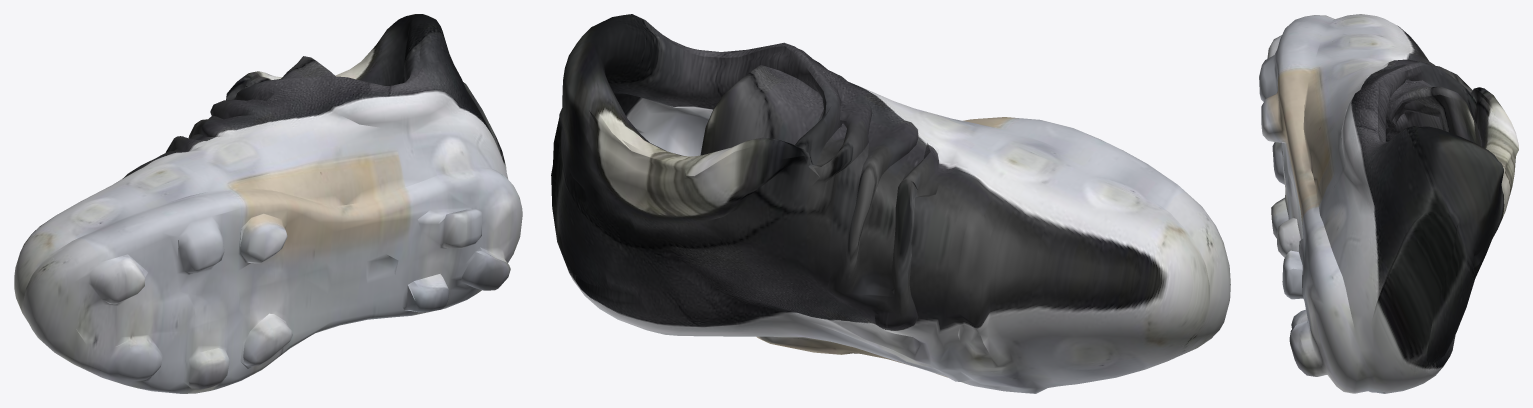
File: chuteira-caida-512.glb
The picture shows the model from 3 angles, left to right: view 1: azimuth 30°, elevation 25°; view 2: azimuth 150°, elevation 25°; view 3: azimuth 270°, elevation 25°; orthographic projection. The views are drawn at different scales.
Parts seen in each view (by area): view 1: chuteira-caida; view 2: chuteira-caida; view 3: chuteira-caida.
Part boxes in pixels (x1=…): chuteira-caida: x1=14, y1=14, x2=522, y2=393; chuteira-caida: x1=551, y1=14, x2=1230, y2=393; chuteira-caida: x1=1259, y1=14, x2=1518, y2=393.
Size of the model in its own units: 0.29 by 0.1442 by 0.1247.
1 material, 1 textured.
